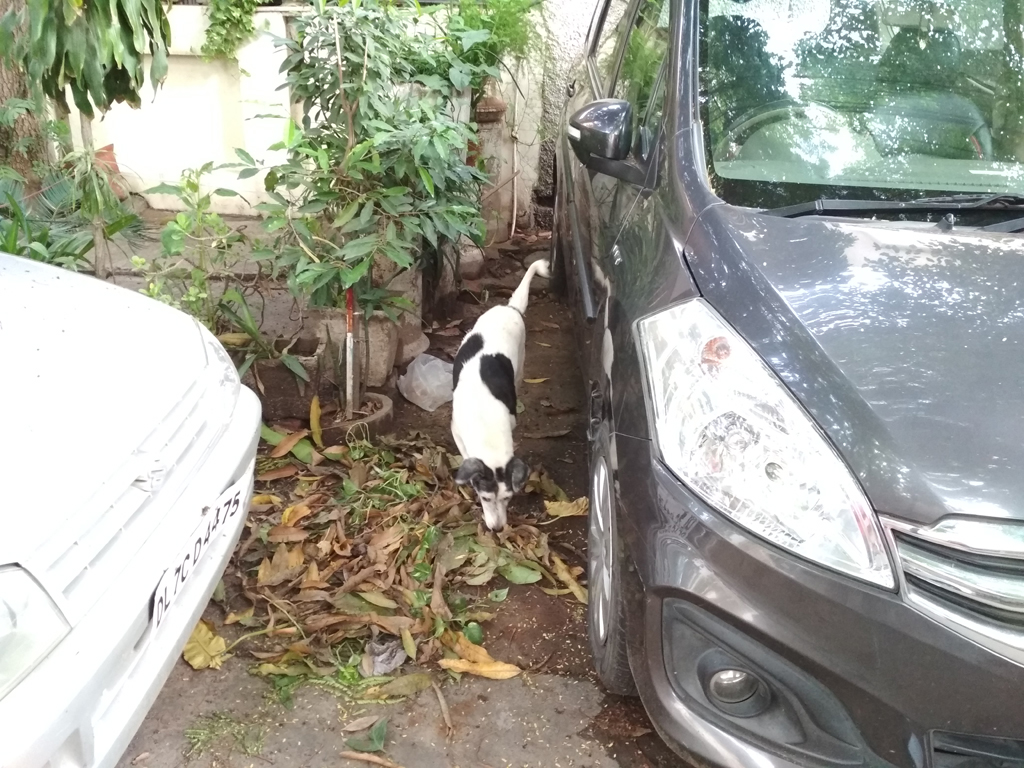dog: (452, 259, 550, 533)
